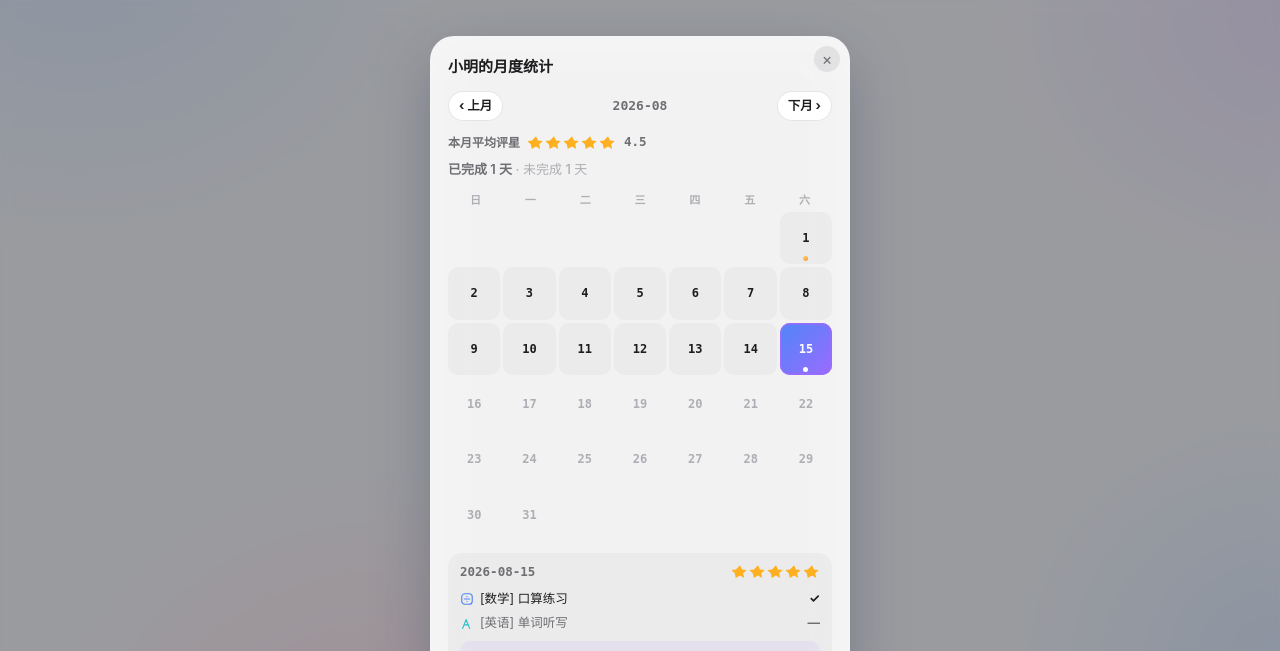
Test: MonthlyStatsModal › switches the day detail when another calendar day is clicked
expect the text "已完成 1 天 · 未完成 1 天" is shown: met, box [448,161,587,177]
Click the button "1" at (806, 238), box [780,212,832,264]
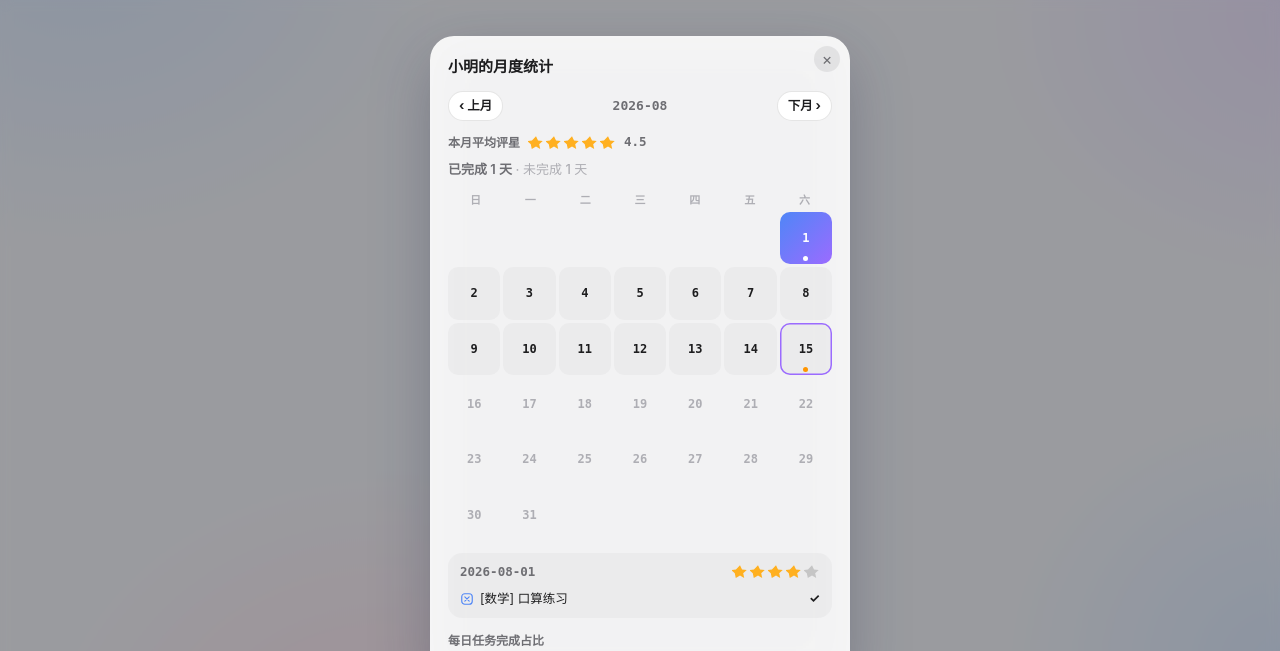
expect the text "[数学] 口算练习" is shown: met, box [480,590,568,608]
expect the text "2026-08-01" is shown: met, box [460,563,535,582]
